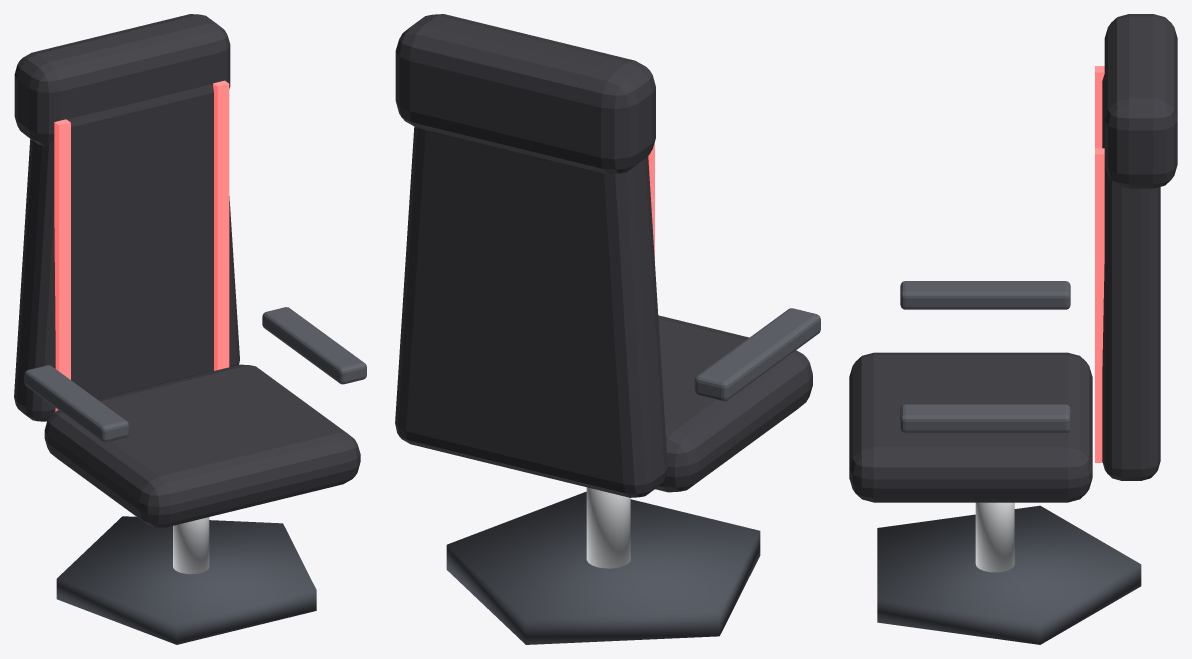
Rendered from armchair_gaming.glb.
3 views of the same model, side by side, from view 1: azimuth 30°, elevation 25°; view 2: azimuth 150°, elevation 25°; view 3: azimuth 270°, elevation 25° (orthographic). The views are drawn at different scales.
Visible parts, largest first — view 1: GD_armchair_gaming__m2, GD_armchair_gaming__m0, GD_armchair_gaming__m3, GD_armchair_gaming__m4, GD_armchair_gaming__m1; view 2: GD_armchair_gaming__m2, GD_armchair_gaming__m0, GD_armchair_gaming__m4, GD_armchair_gaming__m1; view 3: GD_armchair_gaming__m2, GD_armchair_gaming__m0, GD_armchair_gaming__m4, GD_armchair_gaming__m3, GD_armchair_gaming__m1.
Boxes of the visible parts, left/top/right/bottom form: GD_armchair_gaming__m2: left=14, top=14, right=360, bottom=527; GD_armchair_gaming__m0: left=56, top=516, right=316, bottom=644; GD_armchair_gaming__m3: left=54, top=80, right=229, bottom=411; GD_armchair_gaming__m4: left=24, top=307, right=366, bottom=442; GD_armchair_gaming__m1: left=173, top=517, right=209, bottom=574; GD_armchair_gaming__m2: left=395, top=14, right=812, bottom=497; GD_armchair_gaming__m0: left=446, top=491, right=760, bottom=644; GD_armchair_gaming__m4: left=694, top=308, right=820, bottom=401; GD_armchair_gaming__m1: left=586, top=487, right=630, bottom=568; GD_armchair_gaming__m2: left=849, top=14, right=1177, bottom=502; GD_armchair_gaming__m0: left=877, top=505, right=1141, bottom=644; GD_armchair_gaming__m4: left=900, top=281, right=1070, bottom=432; GD_armchair_gaming__m3: left=1095, top=66, right=1104, bottom=462; GD_armchair_gaming__m1: left=975, top=502, right=1014, bottom=572.
Size of the model in its own units: 0.67 by 1.2 by 0.675.
